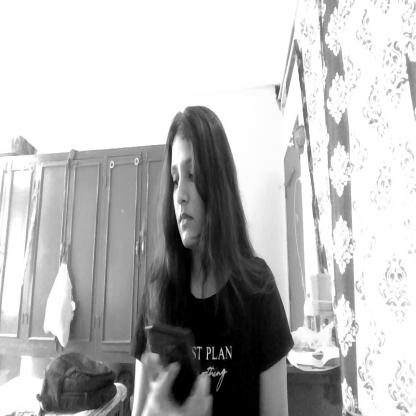Distracted: (164, 108, 227, 263)
